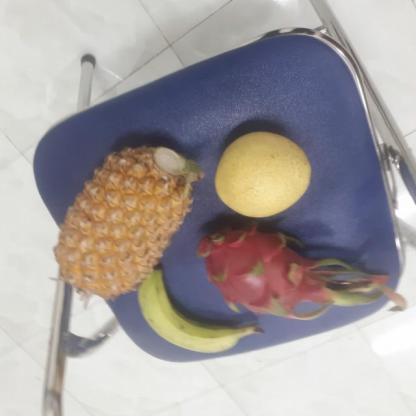banana: (135, 266, 247, 352)
pear: (215, 129, 304, 220)
pineapple: (54, 144, 198, 295)
pitaya: (193, 214, 324, 315)
